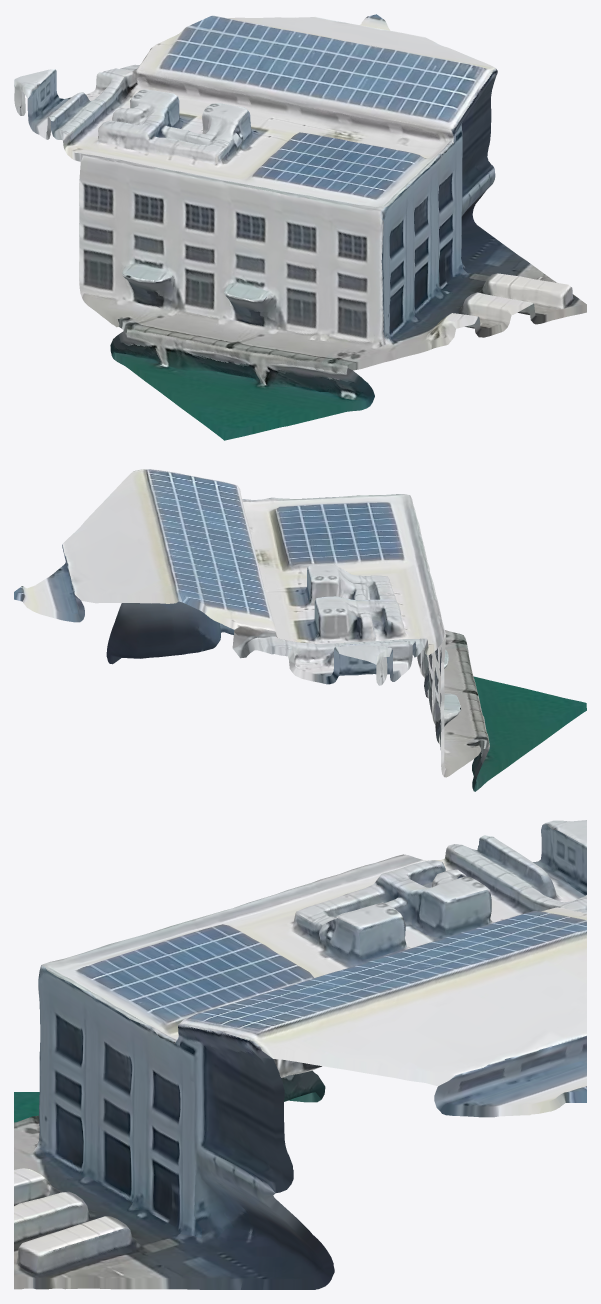
Rendered from z20-167785-405212-h0-yup-uvflip-v3-world.glb.
The picture shows the model from 3 angles, top to bottom: view 1: azimuth 30°, elevation 25°; view 2: azimuth 150°, elevation 25°; view 3: azimuth 270°, elevation 25°; orthographic projection. The views are drawn at different scales.
Bounding box in the file's own units: 30.2 × 18 × 30.32.
1 material, 1 textured.
